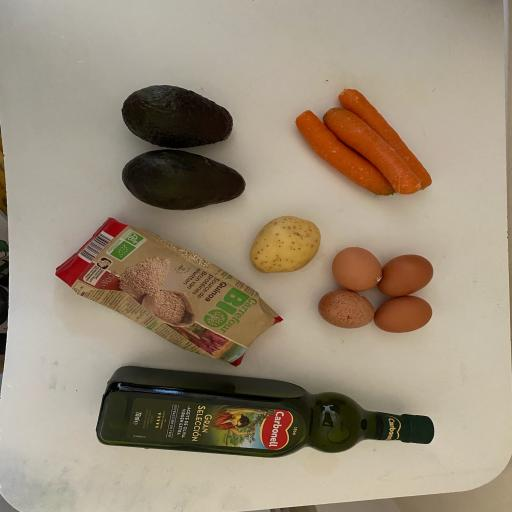avocado: (116, 146, 248, 214), (120, 82, 234, 152)
carrot: (336, 86, 434, 191), (291, 108, 398, 198), (322, 105, 424, 196)
egg: (377, 252, 436, 298), (372, 293, 435, 335), (330, 244, 383, 292), (318, 289, 376, 330)
olive_oil: (90, 362, 437, 462)
potato: (248, 214, 322, 276)
quinoa: (53, 214, 284, 370)
